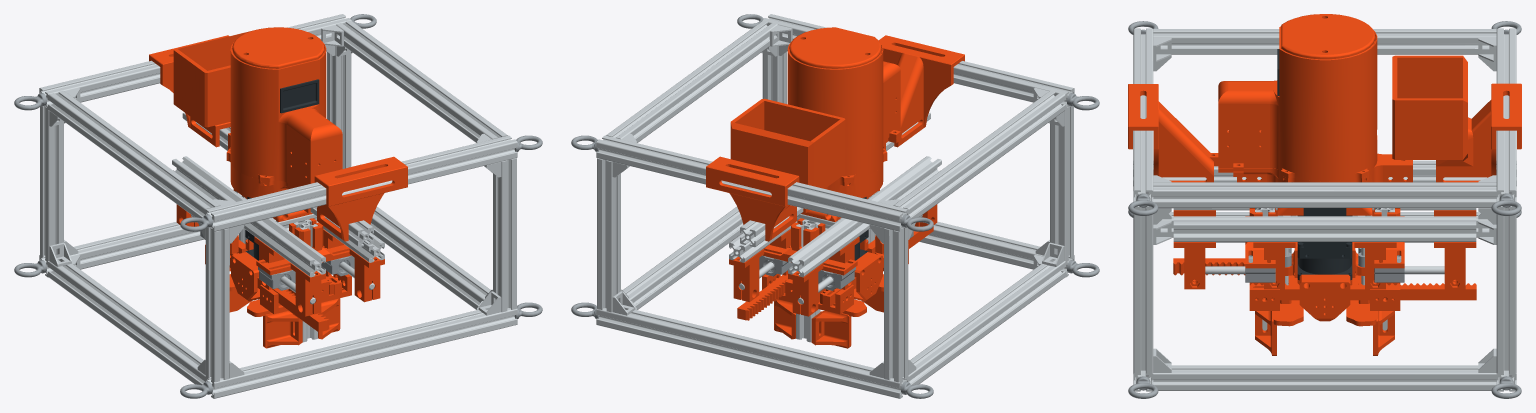
The model's file is cu-brick-end-effector.glb.
The picture shows the model from 3 angles, left to right: view 1: azimuth 30°, elevation 25°; view 2: azimuth 150°, elevation 25°; view 3: azimuth 270°, elevation 25°; orthographic projection. The views are drawn at different scales.
Parts seen in each view (by area): view 1: frameGeometry, enclosureGeometry, gripperGeometry, batteryMountGeometry, gripperJawPositiveGeometry, anchorsGeometry, gripPadPositiveGeometry, rotationGeometry, gripperJawNegativeGeometry, driveGeometry; view 2: frameGeometry, batteryMountGeometry, enclosureGeometry, gripperGeometry, gripperJawNegativeGeometry, anchorsGeometry, gripPadNegativeGeometry, gripperJawPositiveGeometry, rotationGeometry, jawNegativeGeometry, driveGeometry; view 3: frameGeometry, enclosureGeometry, gripperGeometry, batteryMountGeometry, gripperJawPositiveGeometry, driveGeometry, gripperJawNegativeGeometry, anchorsGeometry, rotationGeometry, releasePusherGeometry, gripPadPositiveGeometry, gripPadNegativeGeometry (+1 smaller).
Boxes of the visible parts, x1,y1,x2,y2 form: frameGeometry: (39,14,517,398); enclosureGeometry: (226,27,342,187); gripperGeometry: (172,156,384,316); batteryMountGeometry: (149,31,250,147); gripperJawPositiveGeometry: (256,218,354,314); anchorsGeometry: (14,14,542,398); gripPadPositiveGeometry: (263,298,340,348); rotationGeometry: (226,133,310,213); gripperJawNegativeGeometry: (200,189,329,332); driveGeometry: (235,190,312,260); frameGeometry: (596,14,1074,398); batteryMountGeometry: (706,98,845,241); enclosureGeometry: (787,27,900,182); gripperGeometry: (729,156,941,316); gripperJawNegativeGeometry: (759,218,933,314); anchorsGeometry: (571,14,1099,398); gripPadNegativeGeometry: (774,299,851,348); gripperJawPositiveGeometry: (737,189,913,320); rotationGeometry: (803,130,900,213); jawNegativeGeometry: (796,219,820,342); driveGeometry: (801,190,878,260); frameGeometry: (1128,28,1516,391); enclosureGeometry: (1209,14,1377,181); gripperGeometry: (1173,208,1476,321); batteryMountGeometry: (1392,55,1521,182); gripperJawPositiveGeometry: (1245,208,1476,310); driveGeometry: (1277,208,1372,280); gripperJawNegativeGeometry: (1173,208,1404,310); anchorsGeometry: (1128,21,1521,398); rotationGeometry: (1214,153,1412,182); releasePusherGeometry: (1273,248,1376,326); gripPadPositiveGeometry: (1255,311,1276,355); gripPadNegativeGeometry: (1373,311,1394,355).
Bounding box in the file's own units: 0.4498 × 0.3304 × 0.3903.
